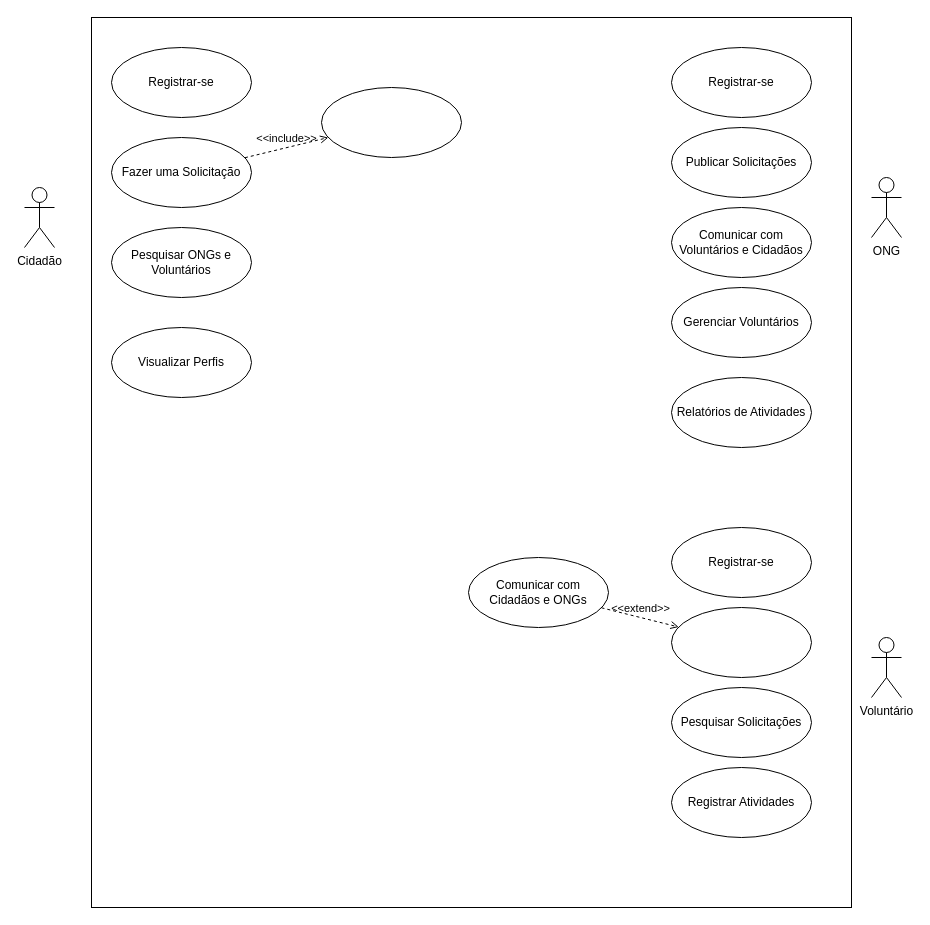
The diagram is 930 pixels wide and 925 high, and some of its shapes have lost their labels. The shapes that lost their labels are listed below. From the top down, each one's box as (x1, y1, x2, y2) in pixels, then its label:
(320, 86, 462, 158): Avaliar Atendimento
(670, 606, 812, 678): Oferecer Ajuda
